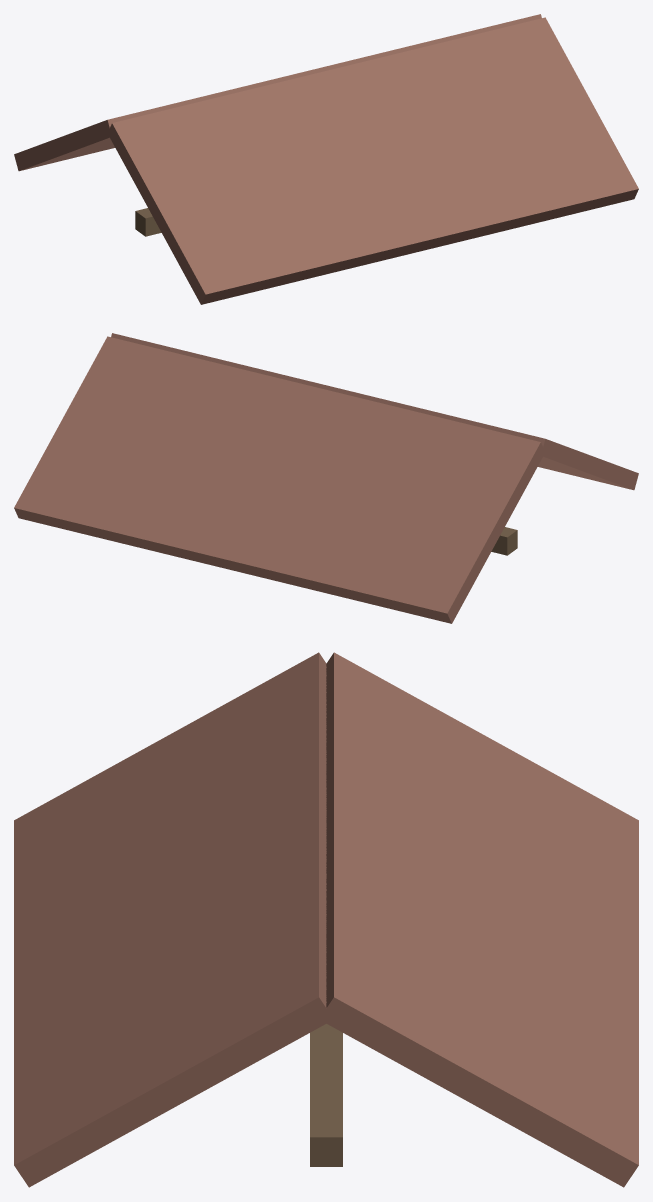
The model's file is roof_piece.glb.
3 renders of one model, top to bottom at view 1: azimuth 30°, elevation 25°; view 2: azimuth 150°, elevation 25°; view 3: azimuth 270°, elevation 25°, orthographic. The views are drawn at different scales.
Parts seen in each view (by area): view 1: roof_piece; view 2: roof_piece; view 3: roof_piece.
Boxes of the visible parts, box(x1,y1,x2,y2) form: roof_piece: box(14, 14, 638, 304); roof_piece: box(14, 333, 638, 623); roof_piece: box(14, 652, 638, 1187).
Size of the model in its own units: 3.96 by 1.04 by 3.03.
